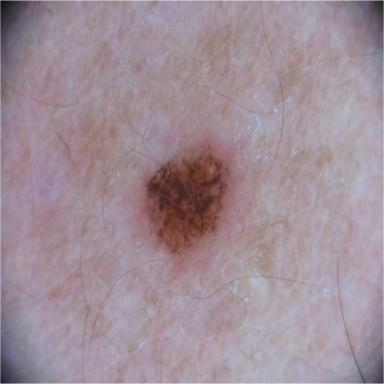nevus: (147, 150, 227, 254)
